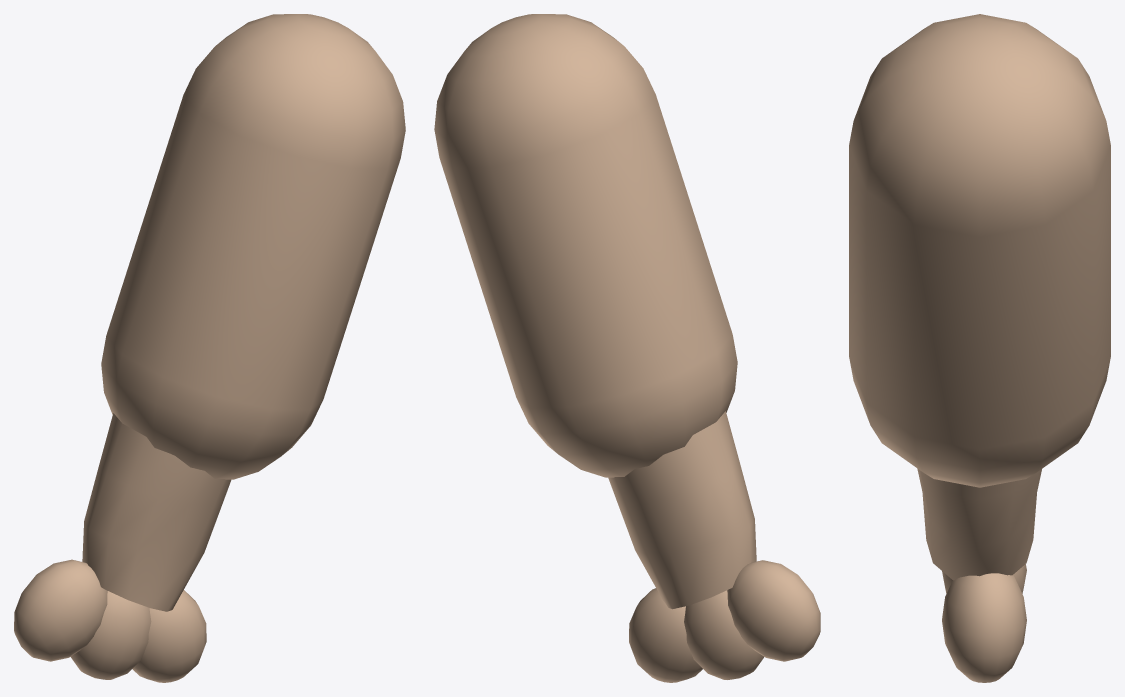
The model's file is Main_Char_Arm.FBX.
The picture shows the model from 3 angles, left to right: view 1: azimuth 30°, elevation 25°; view 2: azimuth 150°, elevation 25°; view 3: azimuth 270°, elevation 25°; orthographic projection. The views are drawn at different scales.
Visible parts, largest first — view 1: Capsule001; view 2: Capsule001; view 3: Capsule001.
Part boxes in pixels (bbox=[...]): Capsule001: bbox=[14, 14, 405, 682]; Capsule001: bbox=[434, 14, 820, 682]; Capsule001: bbox=[849, 14, 1110, 682].
Size of the model in its own units: 27.33 by 44.1 by 14.5.
